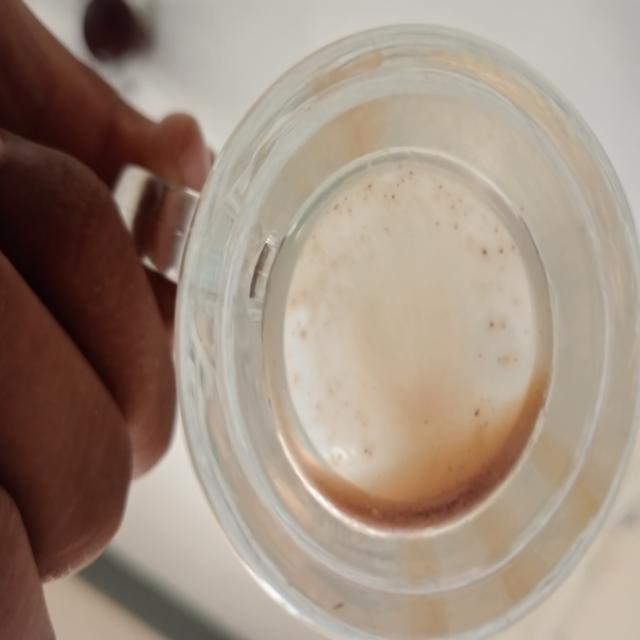glass-VX4N: (114, 25, 640, 640)
